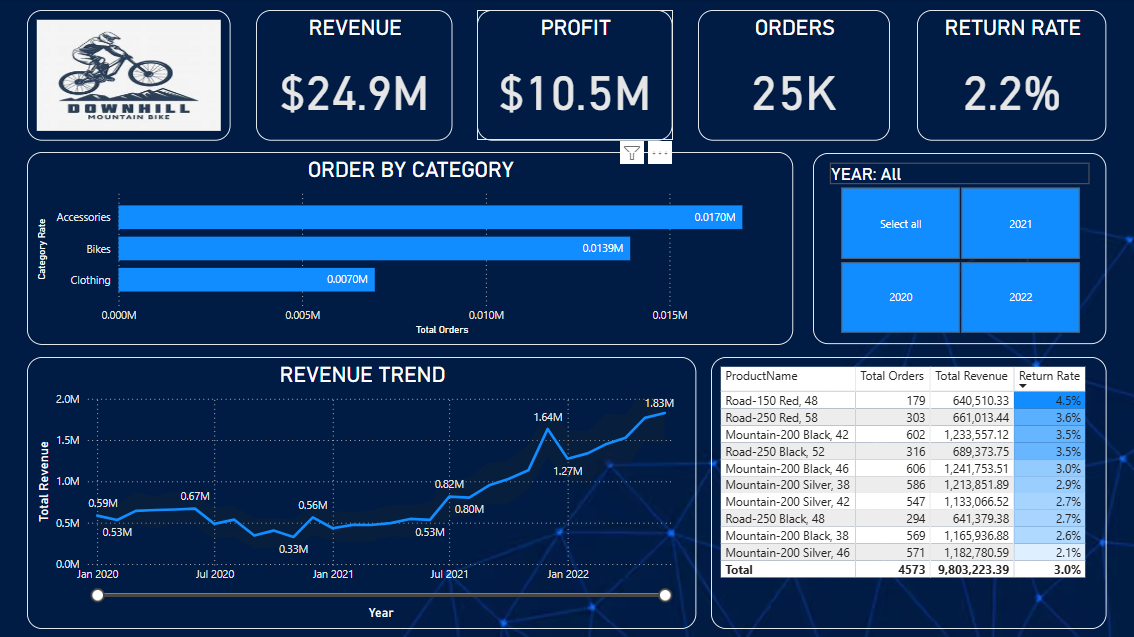

The page's visual inventory and layout, read from the dashboard file:
{"tool":"powerbi","page":{"name":"Page 1","canvas":[1280,720],"ordinal":0},"visuals":[{"type":"card","title":"RETURN RATE","fields":{"Values":["Measure Table.Return Rate"]},"box":[1031.3,12.1,213.4,146.9],"z":0,"group":"g1"},{"type":"lineChart","title":"REVENUE TREND","fields":{"Category":["Calendar Lookup.Start of Month.Variation.Date Hierarchy.Year","Calendar Lookup.Start of Month.Variation.Date Hierarchy.Quarter","Calendar Lookup.Start of Month.Variation.Date Hierarchy.Month","Calendar Lookup.Start of Month.Variation.Date Hierarchy.Day"],"Y":["Measure Table.Total Revenue"]},"box":[30.3,402.8,752.6,305.9],"z":0},{"type":"card","title":"REVENUE","fields":{"Values":["Measure Table.Total Revenue"]},"box":[287.7,12.1,221,146.9],"z":1000,"group":"g1"},{"type":"group","id":"g1","title":"Group 1","box":[287.7,12.1,957,146.9],"z":1000},{"type":"card","title":"PROFIT","fields":{"Values":["Measure Table.Total Profit"]},"box":[537,12.1,219.9,146.9],"z":2000,"group":"g1"},{"type":"pivotTable","fields":{"Rows":["Product Lookup.ProductName"],"Values":["Measure Table.Total Orders","Measure Table.Total Revenue","Measure Table.Return Rate"]},"box":[799.5,402.8,445.2,305.9],"z":2000},{"type":"card","title":"ORDERS","fields":{"Values":["Measure Table.Total Orders"]},"box":[785.2,12.1,215.6,146.9],"z":3000,"group":"g1"},{"type":"barChart","title":"ORDER BY CATEGORY","fields":{"Category":["Product Categories Lookup.CategoryName"],"Y":["Measure Table.Total Orders"]},"box":[30.3,172.6,861.6,216.5],"z":3000},{"type":"slicer","fields":{"Values":["Calendar Lookup.Date.Variation.Date Hierarchy.Year"]},"box":[914.8,173.2,330.4,215.3],"z":4000},{"type":"image","box":[30.3,12.1,228.6,146.9],"z":5000}]}

Visuals, with their boxes in screenshot pixels (x1, y1, x2, y2), scaled from the page's 1280x720 canvas onto the 1134x637 screenshot:
"RETURN RATE" card: x1=914 y1=11 x2=1103 y2=141
"REVENUE TREND" lineChart: x1=27 y1=356 x2=694 y2=627
"REVENUE" card: x1=255 y1=11 x2=451 y2=141
"Group 1" group: x1=255 y1=11 x2=1103 y2=141
"PROFIT" card: x1=476 y1=11 x2=671 y2=141
pivotTable - Product Lookup.ProductName x Measure Table.Total Orders: x1=708 y1=356 x2=1103 y2=627
"ORDERS" card: x1=696 y1=11 x2=887 y2=141
"ORDER BY CATEGORY" barChart: x1=27 y1=153 x2=790 y2=344
slicer - Calendar Lookup.Date.Variation.Date Hierarchy.Year: x1=810 y1=153 x2=1103 y2=344
image: x1=27 y1=11 x2=229 y2=141
